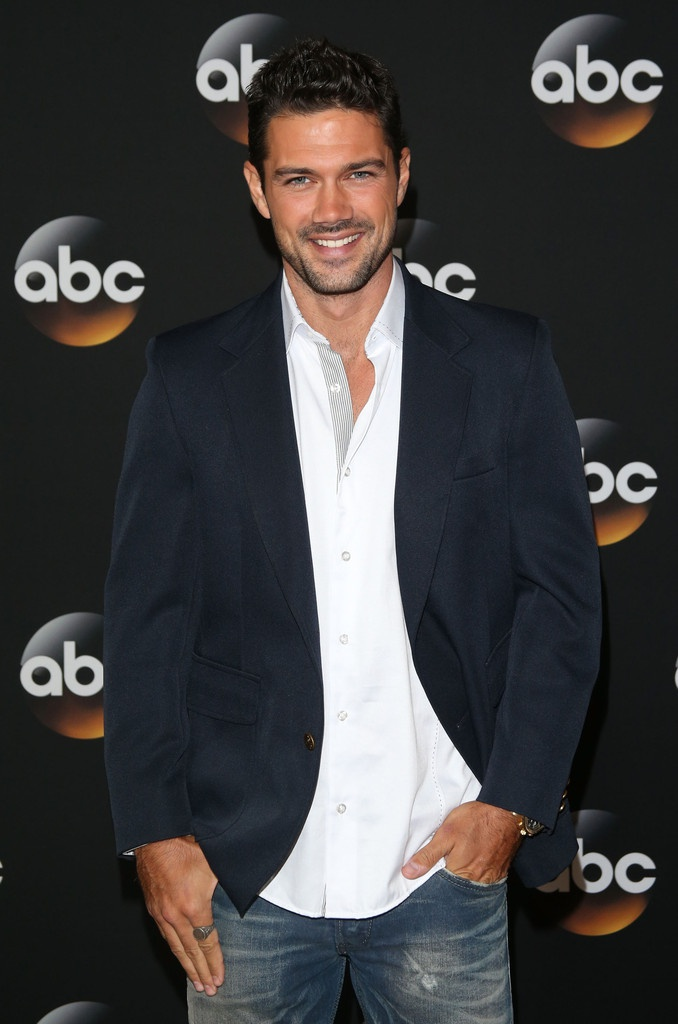bad: (268, 139, 397, 268)
